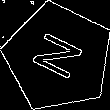N_SE: (27, 29, 90, 86)
